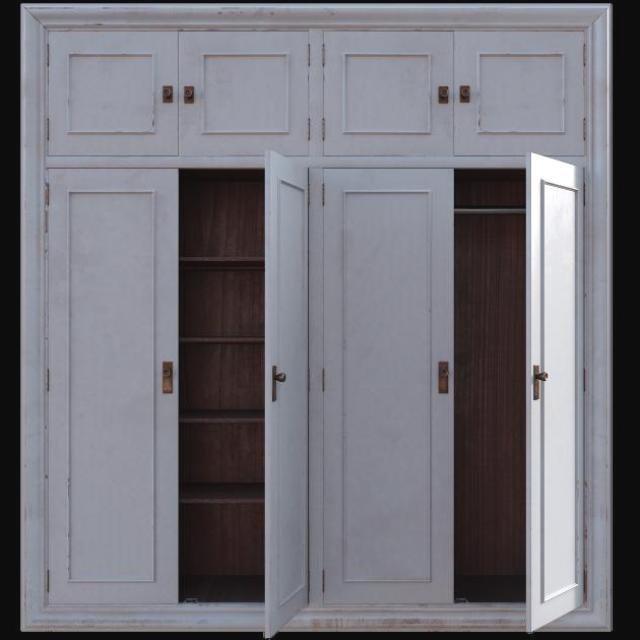door: (36, 153, 186, 600), (320, 162, 453, 611), (514, 135, 585, 640), (250, 135, 313, 640)
